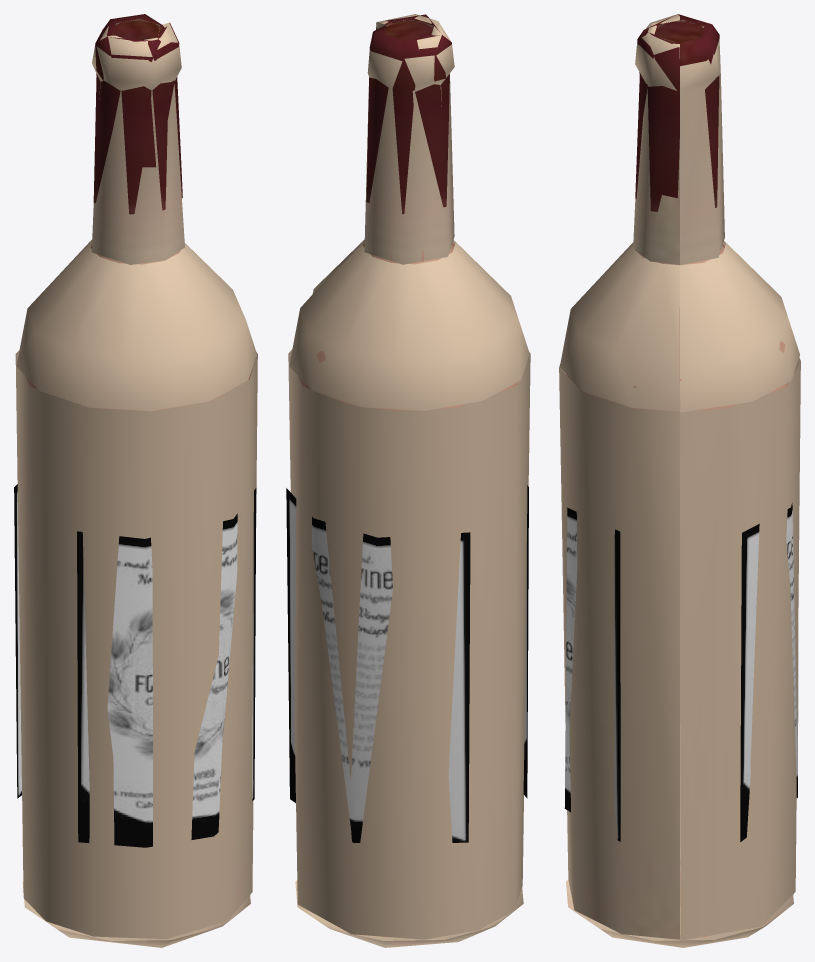
Rendered from wine_bottles_01_lod.glb.
3 views of the same model, side by side, from view 1: azimuth 30°, elevation 25°; view 2: azimuth 150°, elevation 25°; view 3: azimuth 270°, elevation 25° (orthographic).
Parts seen in each view (by area): view 1: wine_bottles_01_bordeaux; view 2: wine_bottles_01_bordeaux; view 3: wine_bottles_01_bordeaux.
Boxes of the visible parts, x1,y1,x2,y2 form: wine_bottles_01_bordeaux: (14,14,257,947); wine_bottles_01_bordeaux: (286,14,530,947); wine_bottles_01_bordeaux: (559,14,800,947).
Size of the model in its own units: 0.0756 by 0.2988 by 0.0745.
4 materials, 3 textured.
